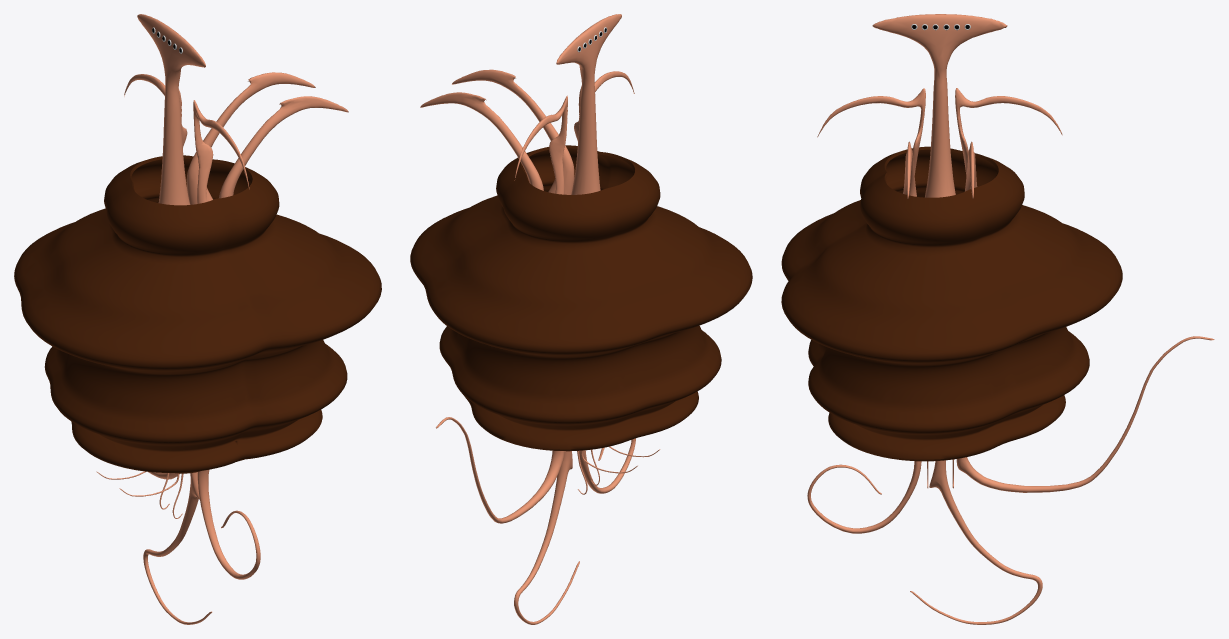
The model's file is ShellFish.fbx.
The picture shows the model from 3 angles, left to right: view 1: azimuth 30°, elevation 25°; view 2: azimuth 150°, elevation 25°; view 3: azimuth 270°, elevation 25°; orthographic projection. The views are drawn at different scales.
Parts seen in each view (by area): view 1: Shell, Body; view 2: Shell, Body; view 3: Shell, Body.
Part boxes in pixels (x1,y1,x2,y2): Shell: (14,155,381,473); Body: (96,14,348,624); Shell: (410,145,752,451); Body: (420,14,660,624); Shell: (781,146,1122,461); Body: (807,14,1214,624).
Bounding box in the file's own units: 131 × 238 × 156.
